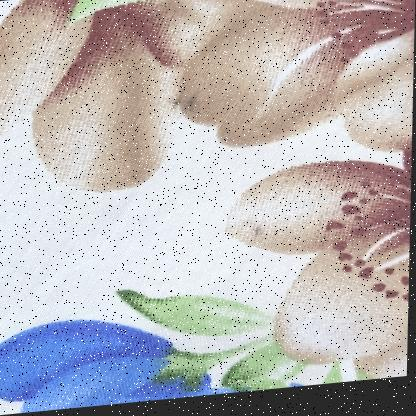spot: (165, 88, 203, 121), (250, 227, 265, 244)
